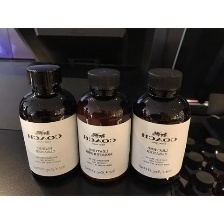cleaning_solution: (123, 66, 193, 194), (16, 61, 85, 190), (72, 64, 136, 191)
